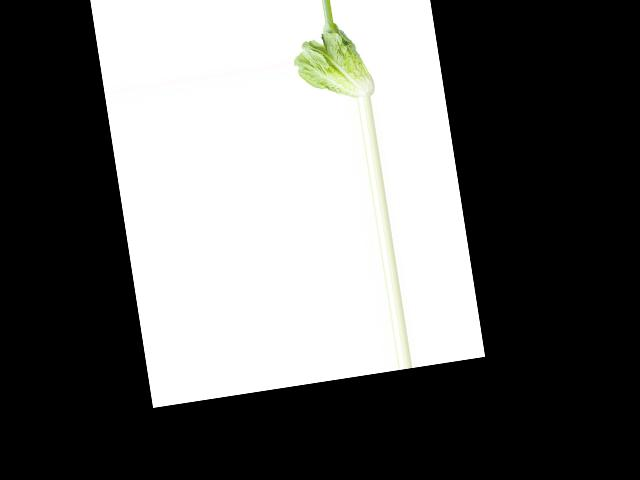lettuce: (288, 19, 376, 105)
